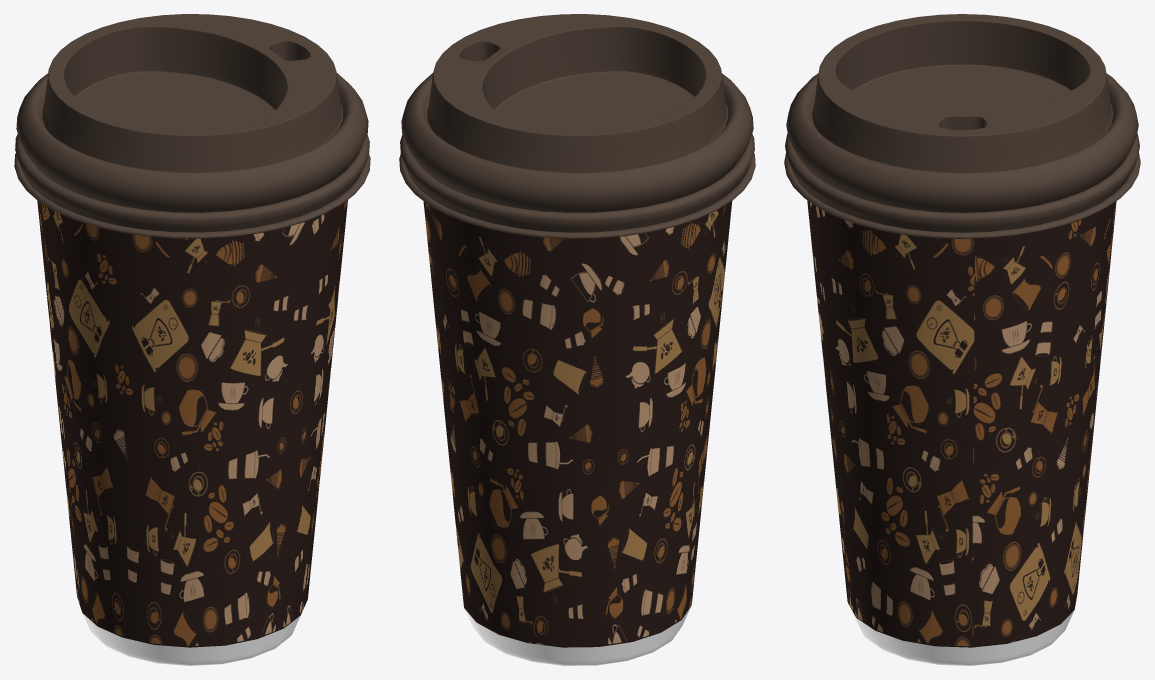
Rendered from cup.glb.
The picture shows the model from 3 angles, left to right: view 1: azimuth 30°, elevation 25°; view 2: azimuth 150°, elevation 25°; view 3: azimuth 270°, elevation 25°; orthographic projection.
Parts seen in each view (by area): view 1: cup_lid1; view 2: cup_lid1; view 3: cup_lid1.
Part boxes in pixels (box(x1,y1,x2,y2)): cup_lid1: box(14, 14, 370, 665); cup_lid1: box(399, 14, 755, 665); cup_lid1: box(784, 14, 1140, 665).
Size of the model in its own units: 2.04 by 3.47 by 2.04.
Materials: 4 (2 with a texture image).
